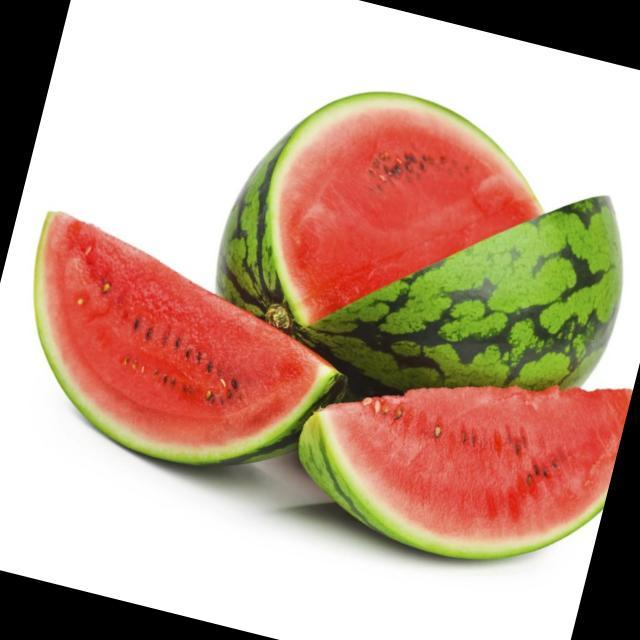WATERMELON: (202, 60, 640, 408), (206, 57, 592, 386), (0, 204, 360, 499), (284, 309, 634, 594)
